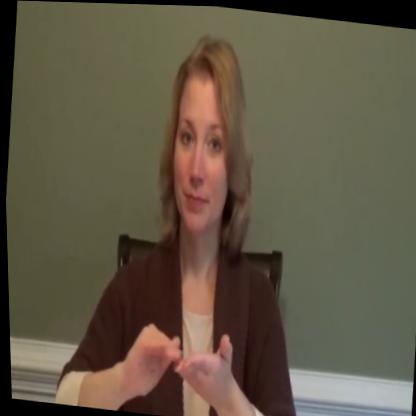ExcuseMe: (43, 17, 334, 416)
